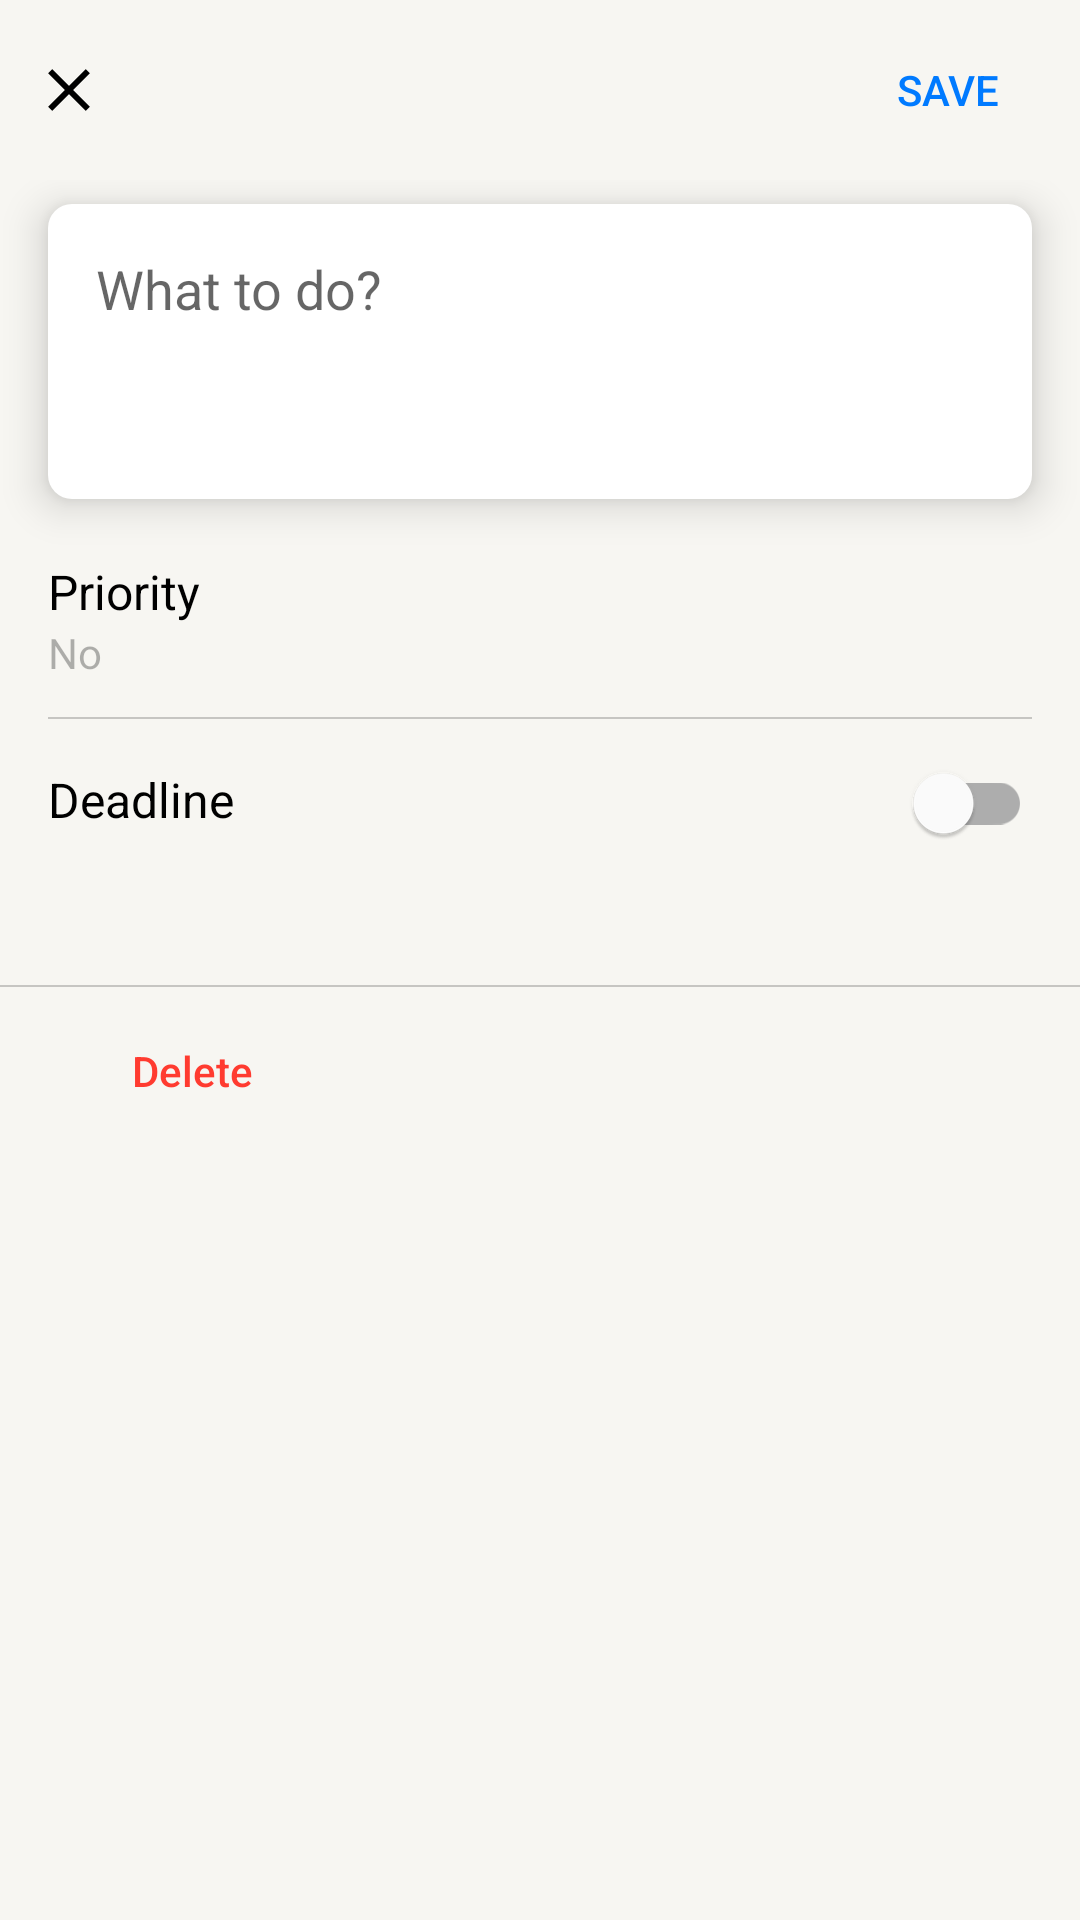

Icon bounding boxes for this 1080px×1920px phone screenshot, format [left=x1, top=y1, right=x2, bottom=y2]:
close: [left=48, top=69, right=90, bottom=111]
